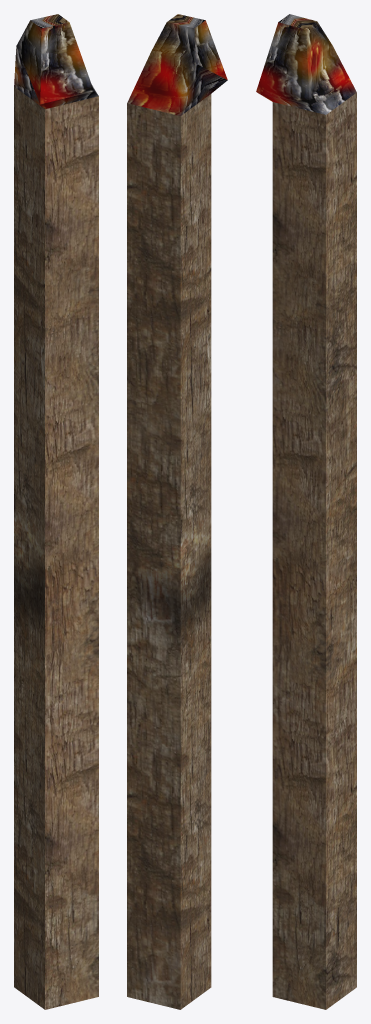
Rendered from torch_01_LOD2.fbx.
The picture shows the model from 3 angles, left to right: view 1: azimuth 30°, elevation 25°; view 2: azimuth 150°, elevation 25°; view 3: azimuth 330°, elevation 25°; orthographic projection.
Parts seen in each view (by area): view 1: Mesh Object; view 2: Mesh Object; view 3: Mesh Object.
Boxes of the visible parts, x1=… form: Mesh Object: x1=14, y1=14, x2=98, y2=1009; Mesh Object: x1=127, y1=14, x2=227, y2=1009; Mesh Object: x1=256, y1=14, x2=356, y2=1009.
Bounding box in the file's own units: 0.12 × 1.74 × 0.119.
